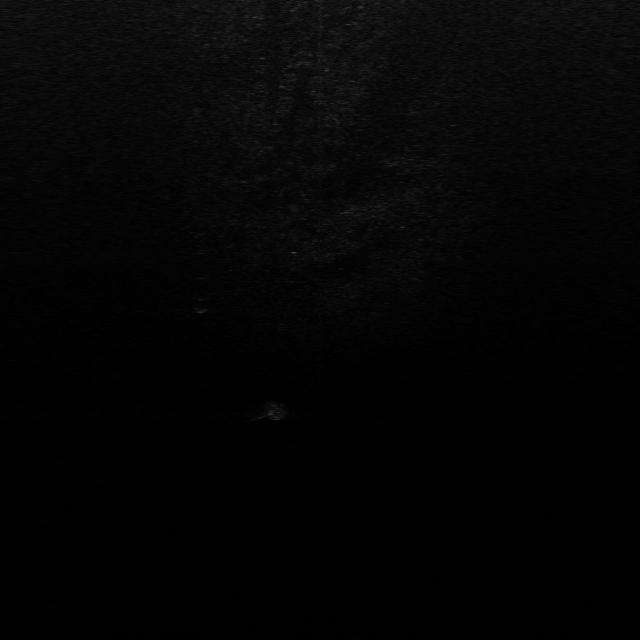ball: (260, 398, 290, 421)
circle cage: (188, 296, 213, 315)
